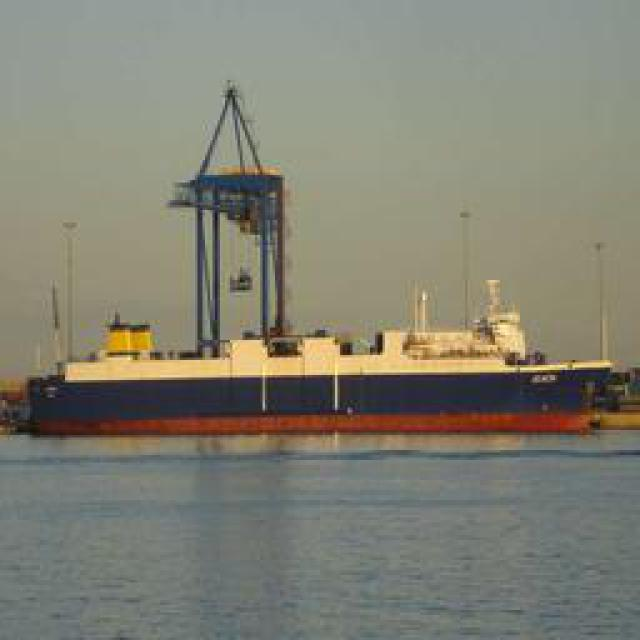Ship: (19, 322, 624, 422)
